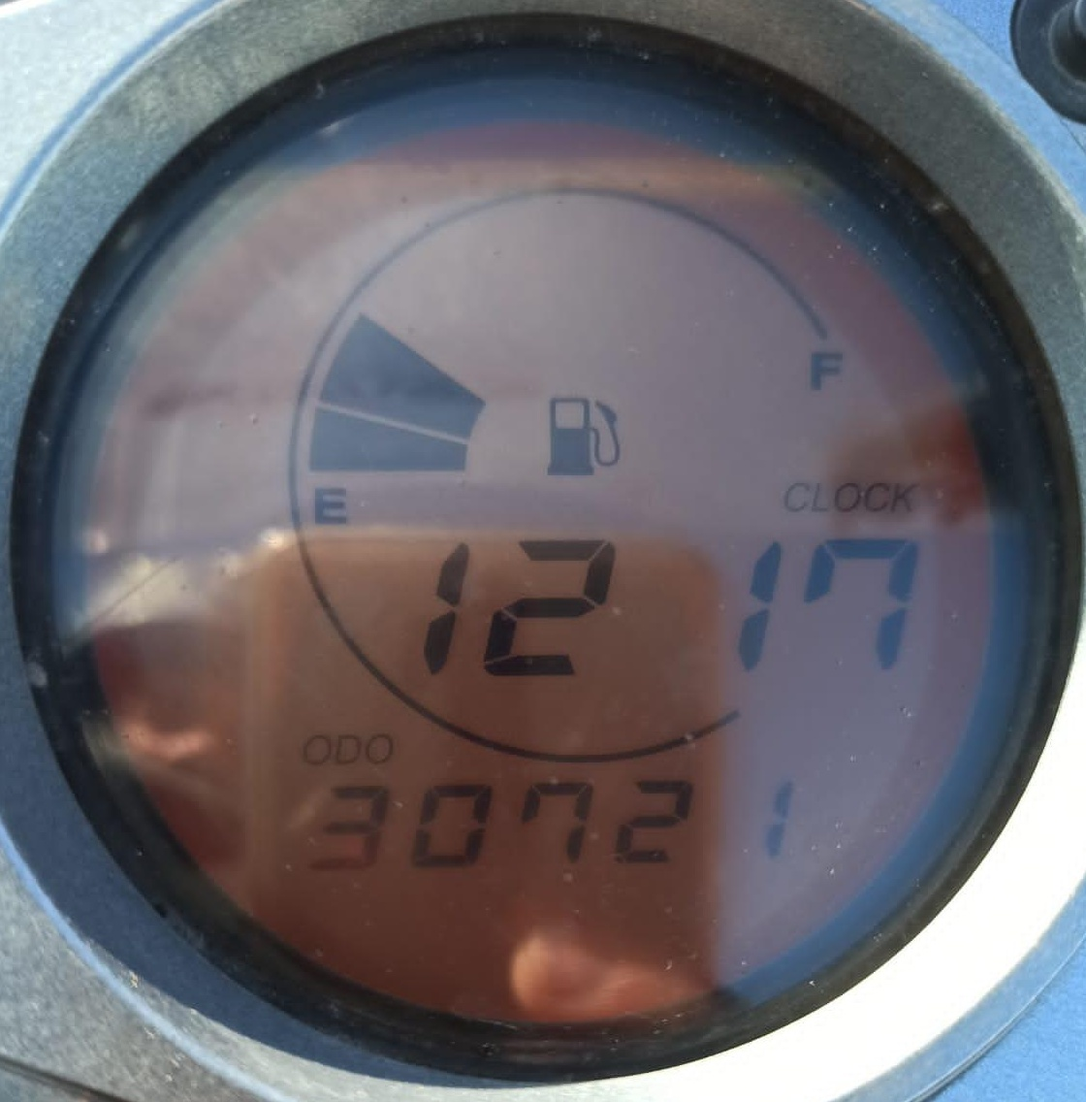0: (410, 781, 495, 868)
1: (733, 535, 789, 682), (414, 535, 471, 677), (760, 777, 796, 860)
2: (483, 533, 614, 686), (612, 776, 693, 865)
3: (308, 781, 392, 871)
7: (803, 531, 929, 677), (518, 779, 596, 865)
X: (305, 480, 353, 531), (802, 343, 846, 397), (890, 477, 921, 514), (363, 729, 394, 764), (832, 479, 863, 512), (302, 732, 333, 765), (333, 730, 362, 765), (782, 477, 808, 515), (863, 478, 889, 513), (808, 477, 831, 515)
